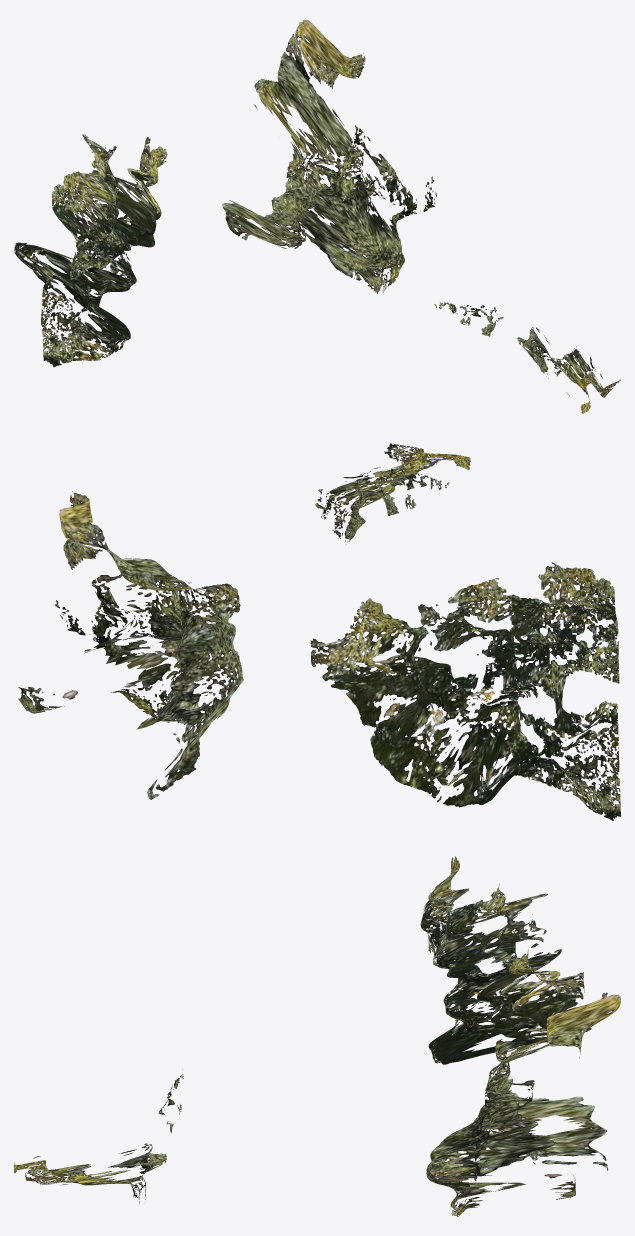
The model's file is appearance-06.glb.
3 views of the same model, one above another, from view 1: azimuth 30°, elevation 25°; view 2: azimuth 150°, elevation 25°; view 3: azimuth 270°, elevation 25° (orthographic). The views are drawn at different scales.
Parts seen in each view (by area): view 1: middle, left, foreground; view 2: left, middle, foreground; view 3: left, middle, foreground.
Boxes of the visible parts, left/top/right/bottom form: middle: left=222, top=19, right=436, bottom=293; left: left=14, top=134, right=167, bottom=367; foreground: left=434, top=302, right=620, bottom=413; left: left=310, top=562, right=620, bottom=820; middle: left=18, top=491, right=243, bottom=799; foreground: left=315, top=443, right=470, bottom=542; left: left=420, top=856, right=591, bottom=1064; middle: left=426, top=992, right=620, bottom=1216; foreground: left=14, top=1069, right=183, bottom=1203.
Size of the model in its own units: 14.14 by 7.34 by 17.59.
3 materials, 3 textured.
